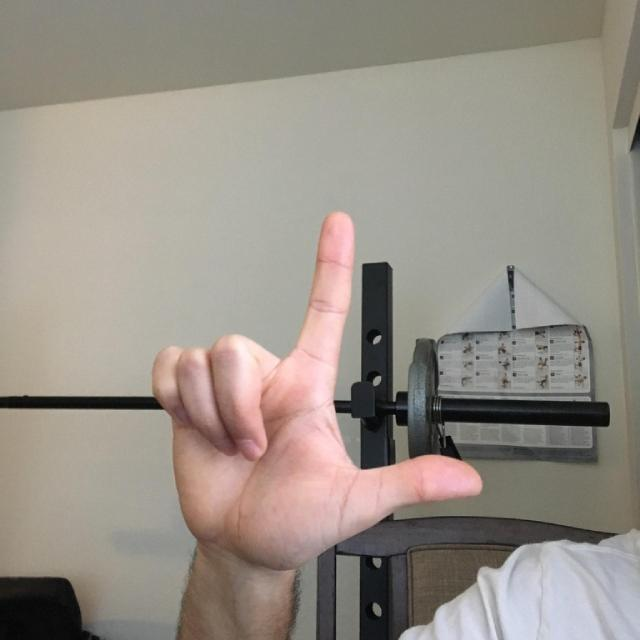L: (114, 176, 512, 590)
